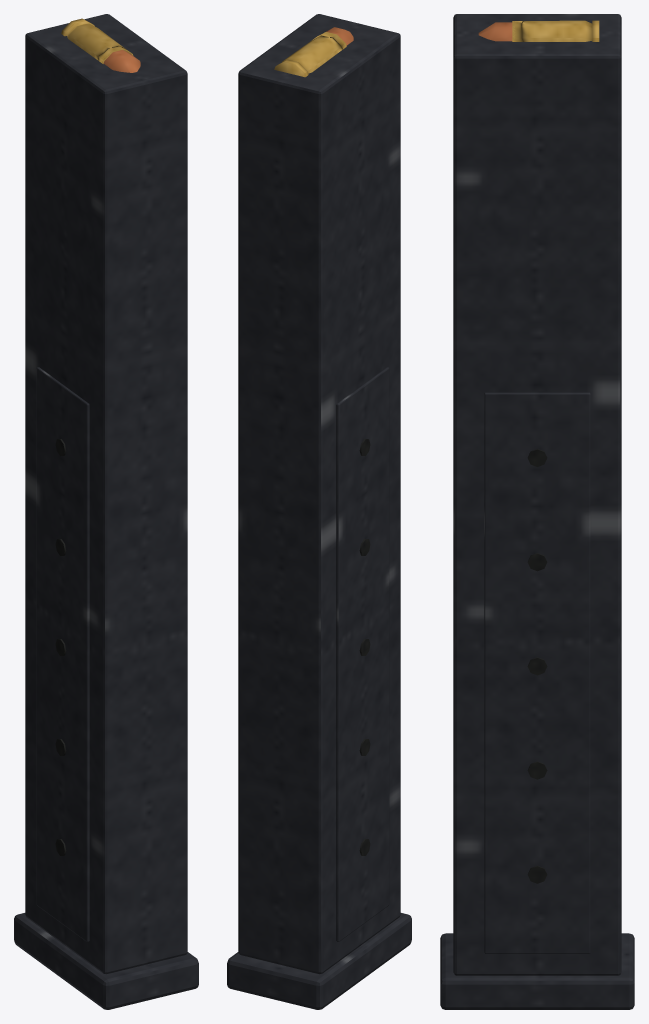
File: mag_mp40.glb
The picture shows the model from 3 angles, left to right: view 1: azimuth 30°, elevation 25°; view 2: azimuth 150°, elevation 25°; view 3: azimuth 270°, elevation 25°; orthographic projection. The views are drawn at different scales.
Visible parts, largest first — view 1: mag_mp40; view 2: mag_mp40; view 3: mag_mp40.
Boxes of the visible parts, x1=… form: mag_mp40: x1=14, y1=14, x2=198, y2=1009; mag_mp40: x1=227, y1=14, x2=411, y2=1009; mag_mp40: x1=440, y1=14, x2=634, y2=1009.
Bounding box in the file's own units: 0.026 × 0.2407 × 0.044.
4 materials, 4 textured.
